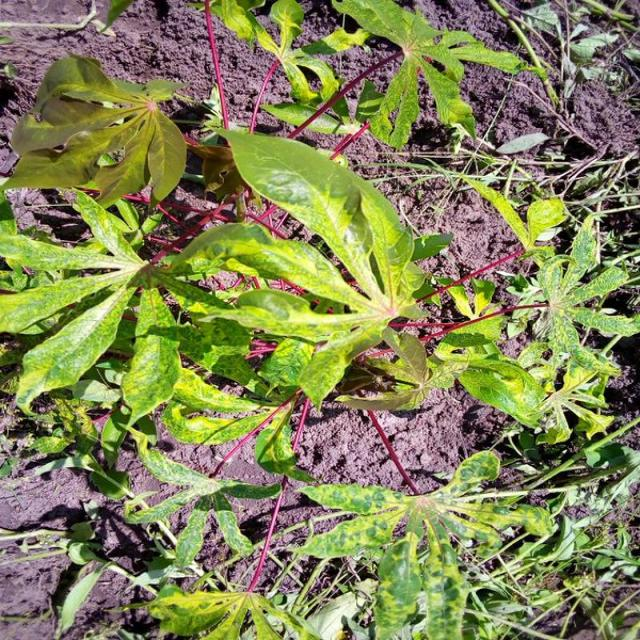cassava leaf: (210, 124, 418, 310), (3, 53, 188, 209)
